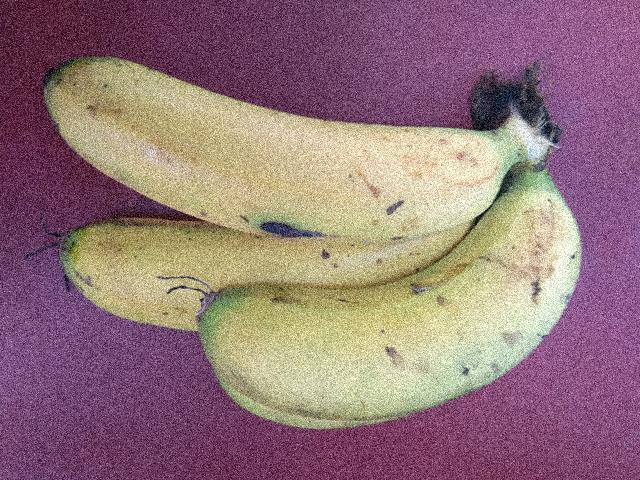ripe: (226, 177, 612, 435), (44, 37, 509, 220), (23, 195, 332, 319)
